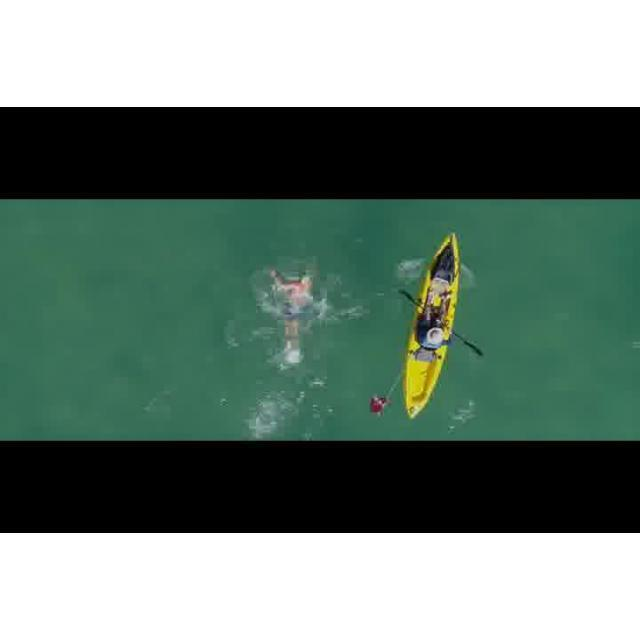human: (272, 268, 311, 359)
